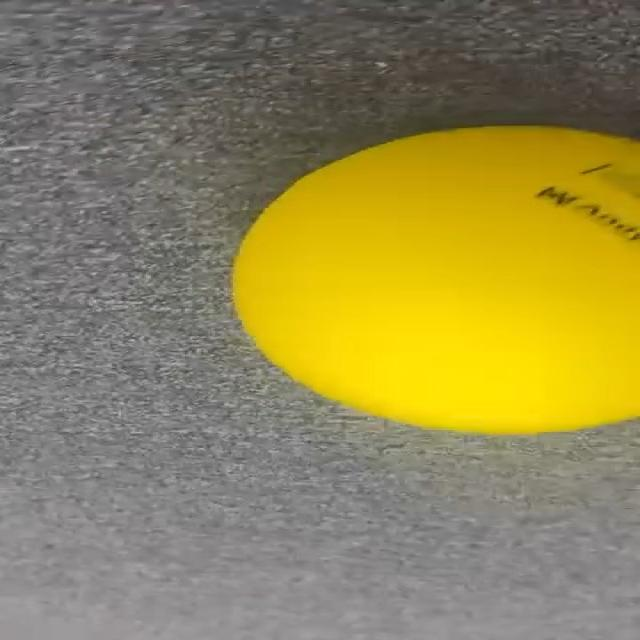Fuels: (224, 122, 640, 435)
